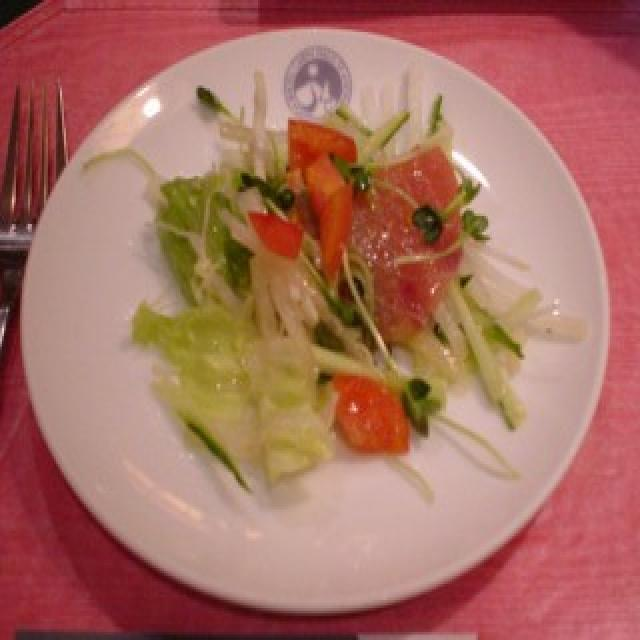Green Salad: (126, 91, 532, 470)
